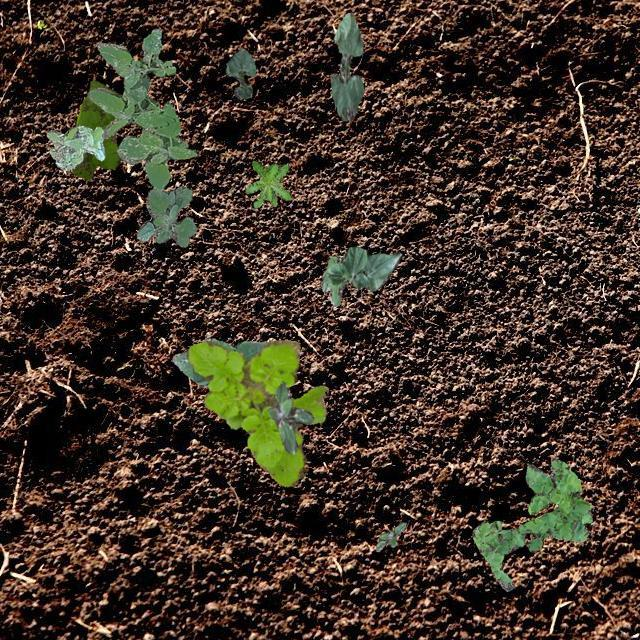crop: (320, 246, 400, 306), (172, 336, 266, 386), (330, 11, 362, 120), (226, 48, 254, 98)
weed: (186, 340, 326, 486), (86, 28, 196, 190), (471, 458, 592, 590), (70, 80, 120, 178), (136, 184, 196, 246), (266, 380, 312, 452), (46, 124, 102, 170), (244, 160, 290, 206), (374, 522, 404, 550)
